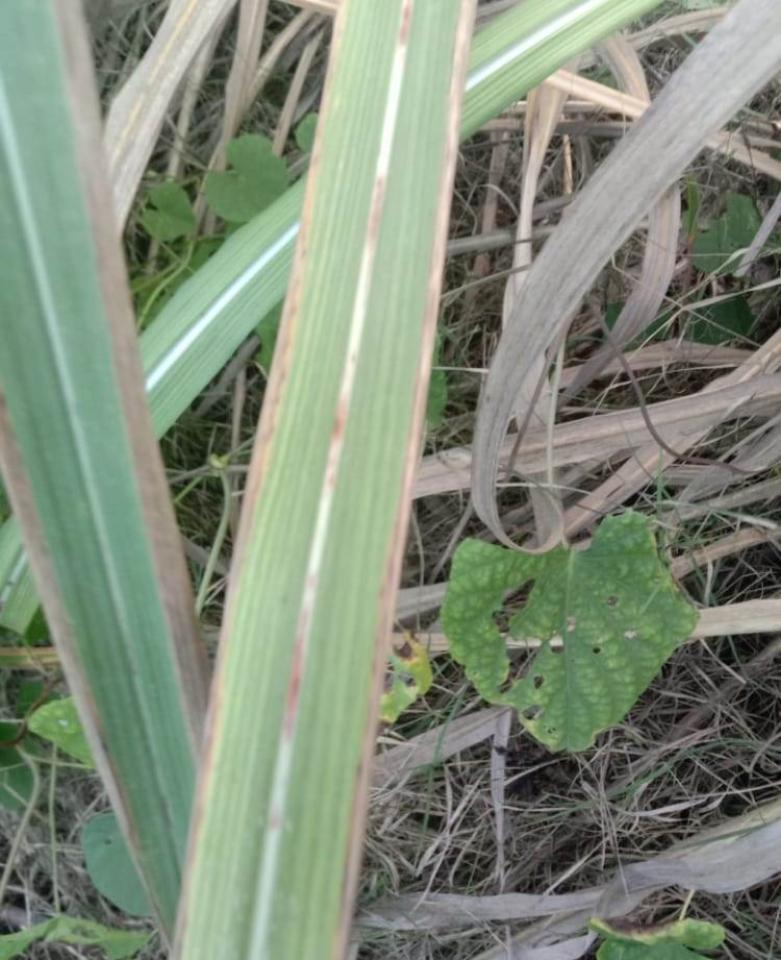RedRot: (281, 565, 319, 743), (320, 387, 353, 494), (366, 174, 387, 242), (397, 0, 415, 49), (266, 809, 287, 834)
Yellow: (169, 0, 344, 959), (333, 0, 477, 959)
